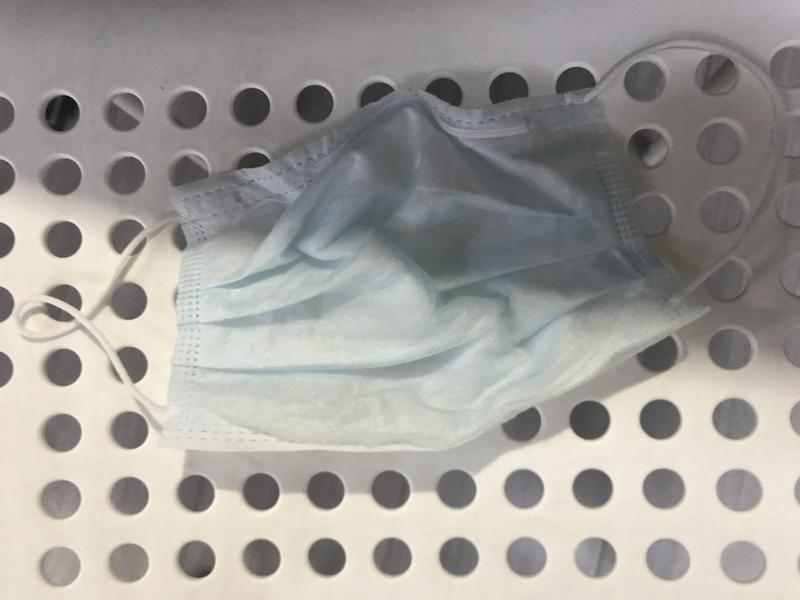medical_mask: (14, 38, 788, 445)
